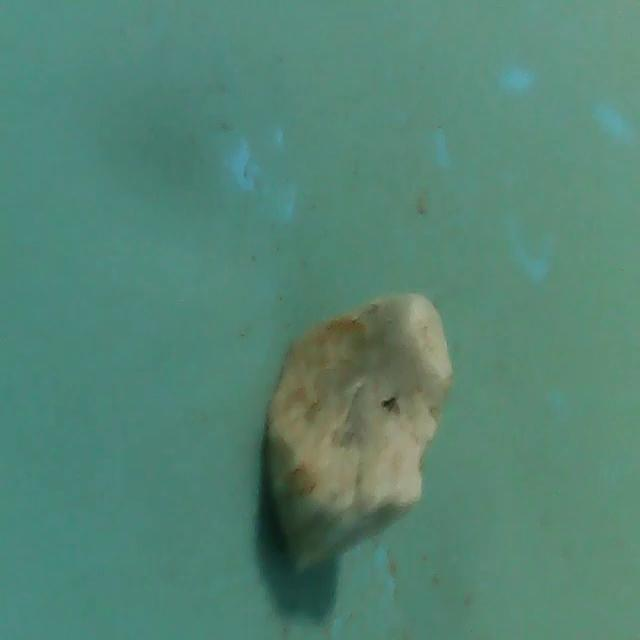rock: (262, 282, 454, 580)
